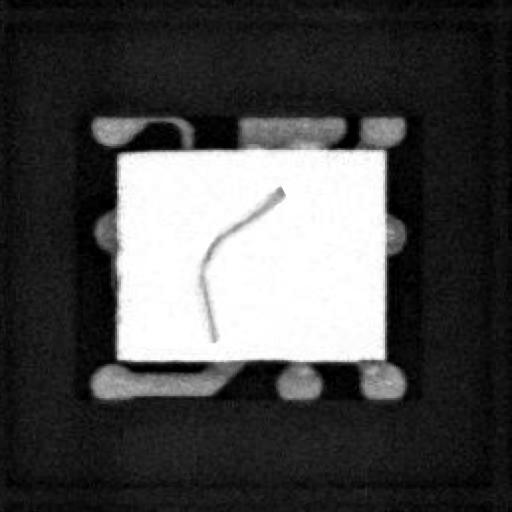DIE_INK: (184, 193, 269, 357)
